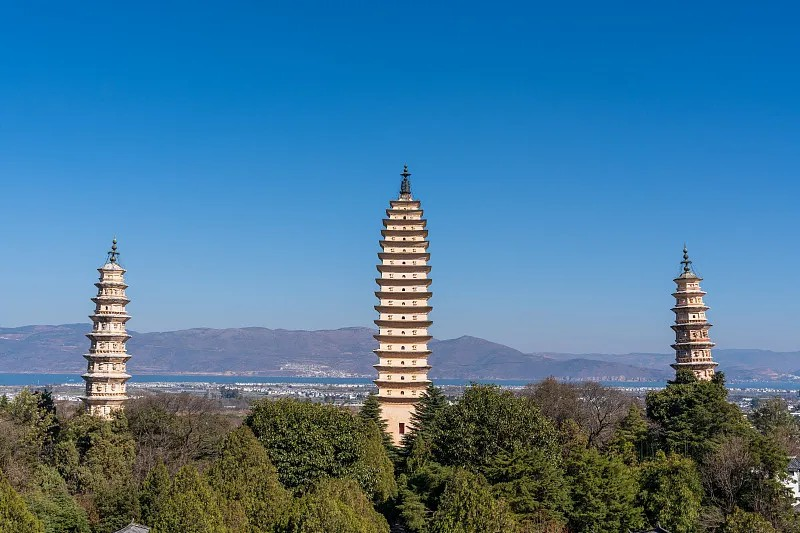ThreePagoda: (372, 164, 434, 447)
